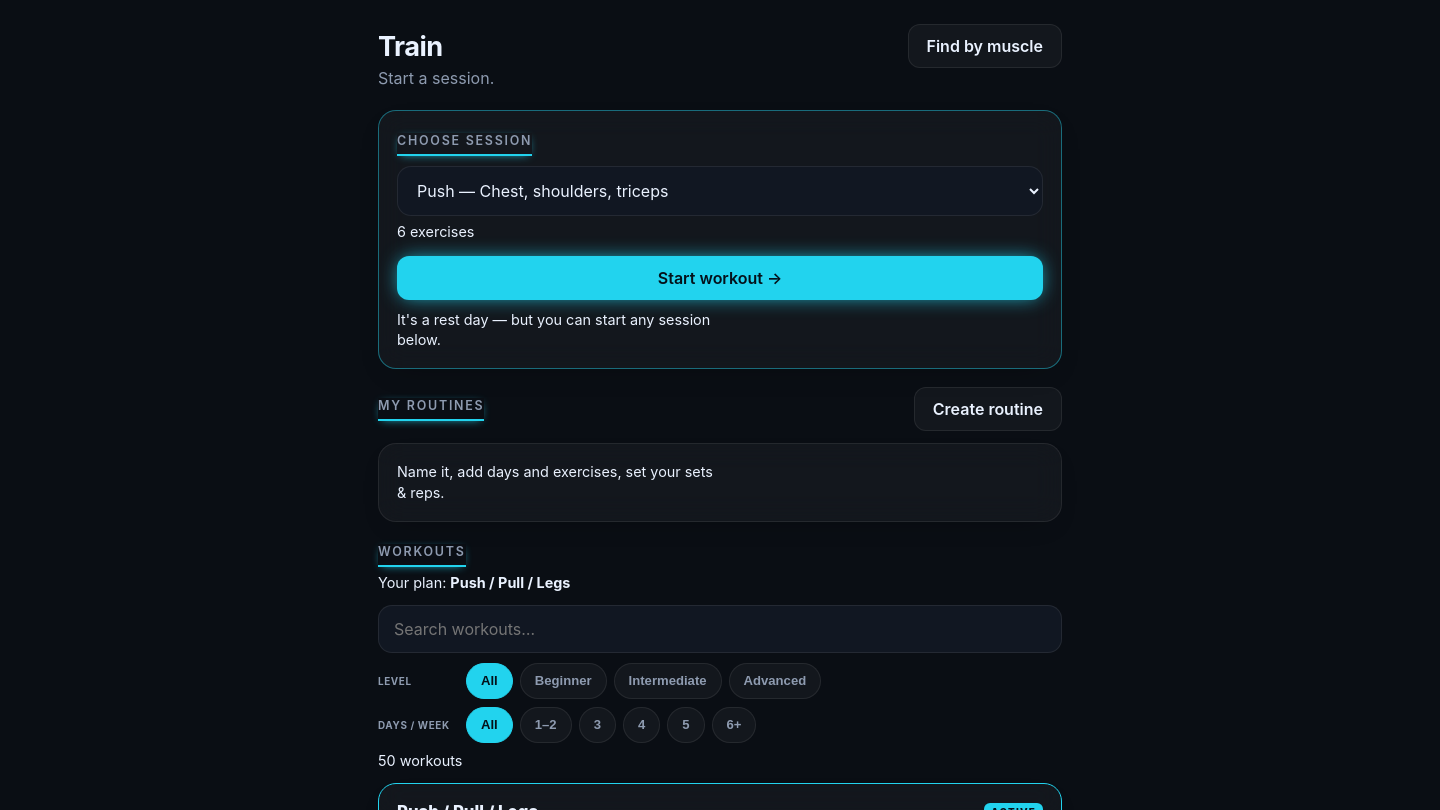
Test case: Train · custom routines › builds, saves and selects a custom routine
Click the button "Create routine" at (988, 410), box [914,388,1062,432]
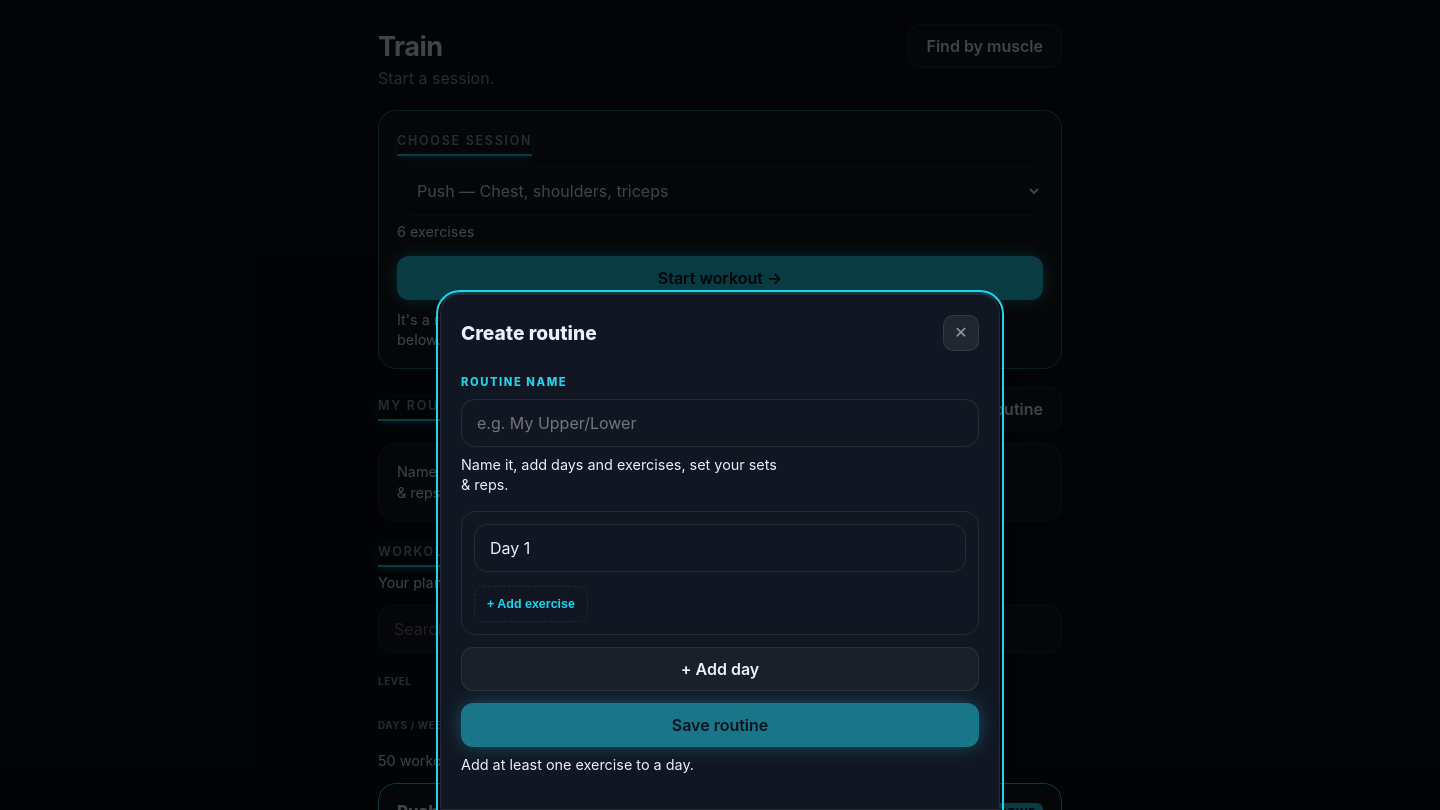
Type "My Upper/Lower" into the field labelled "Routine name" at (720, 422), box [461,398,979,446]
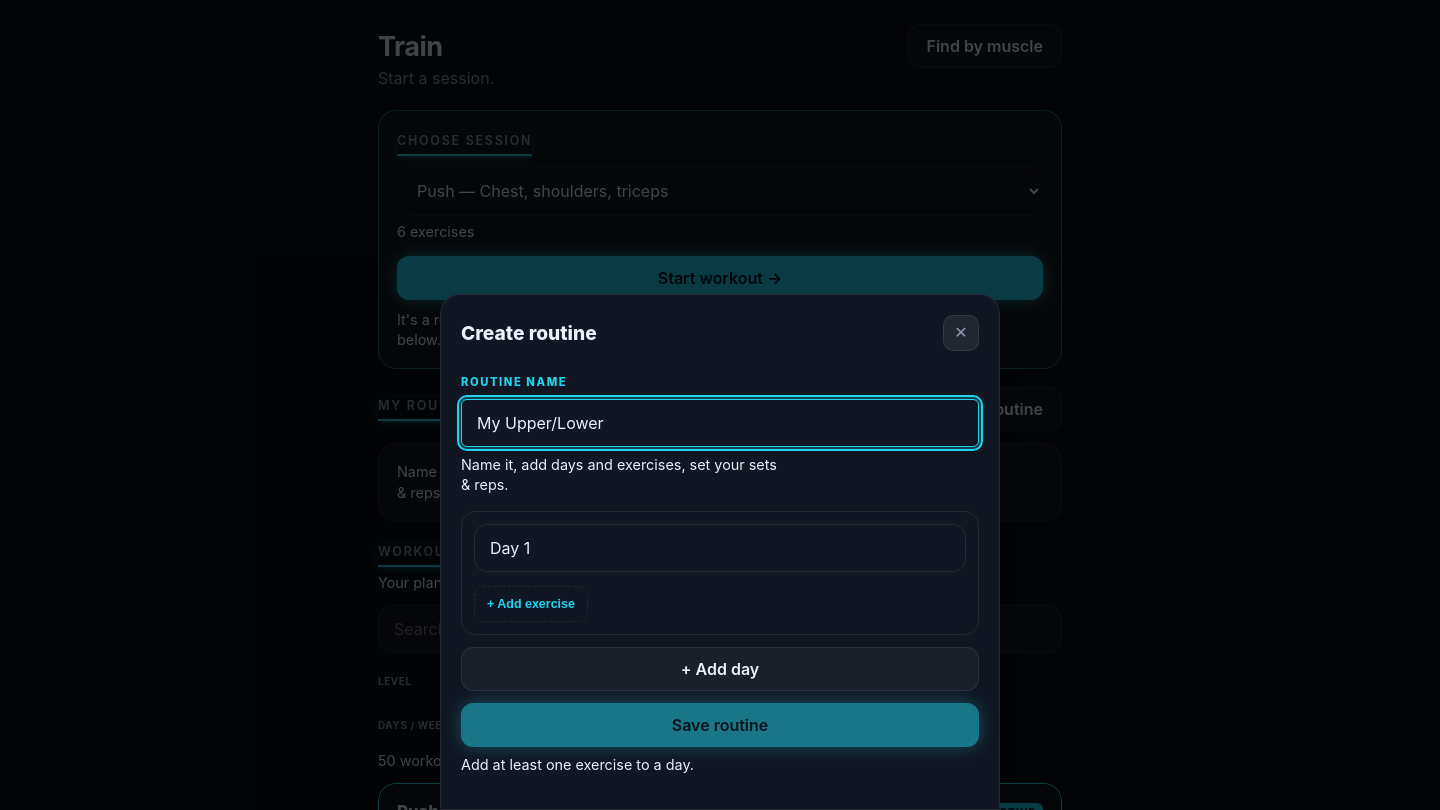
Click the button "+ Add exercise" at (531, 604), box [474,586,588,622]
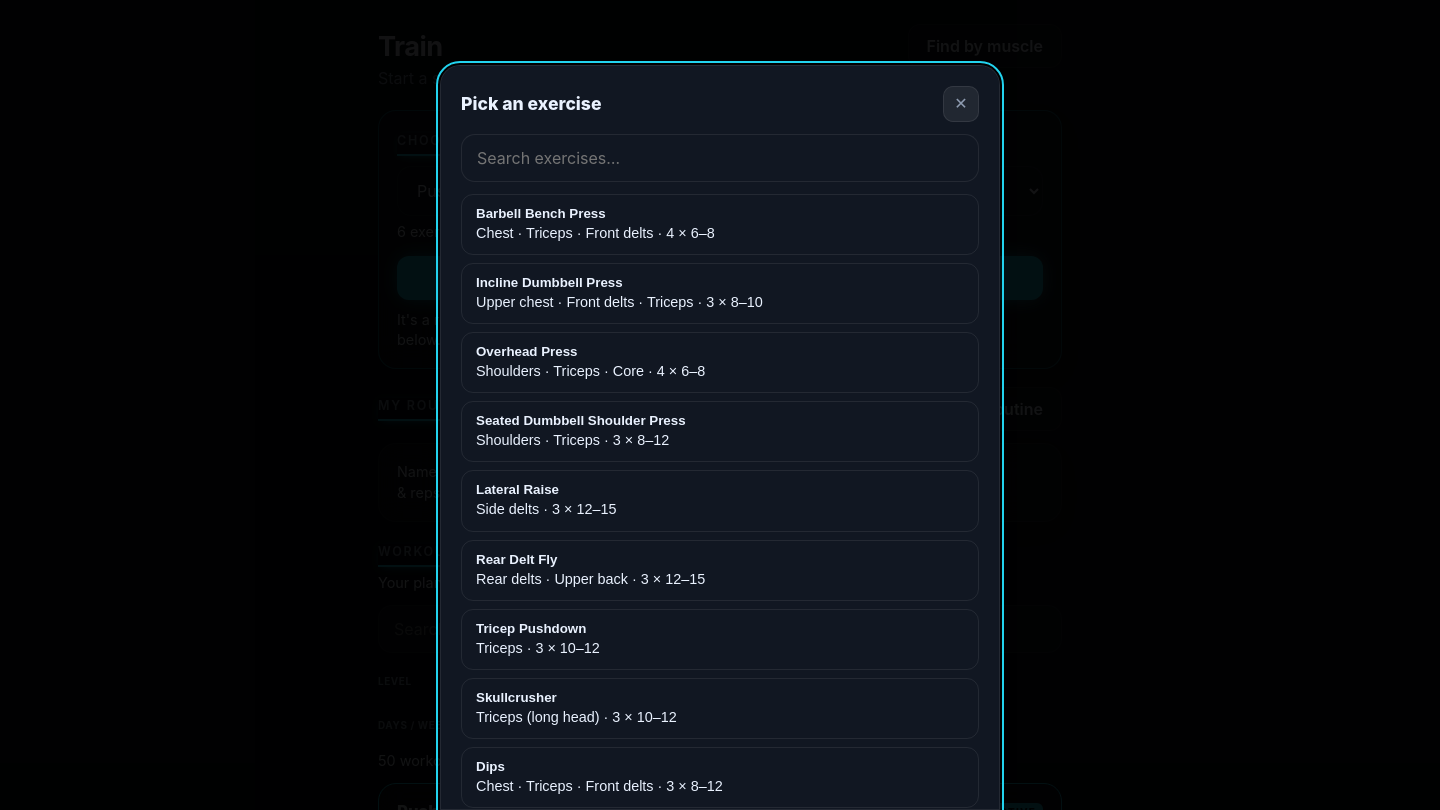
Click the text "Barbell Bench Press" at (541, 213), box [476,206,606,221]
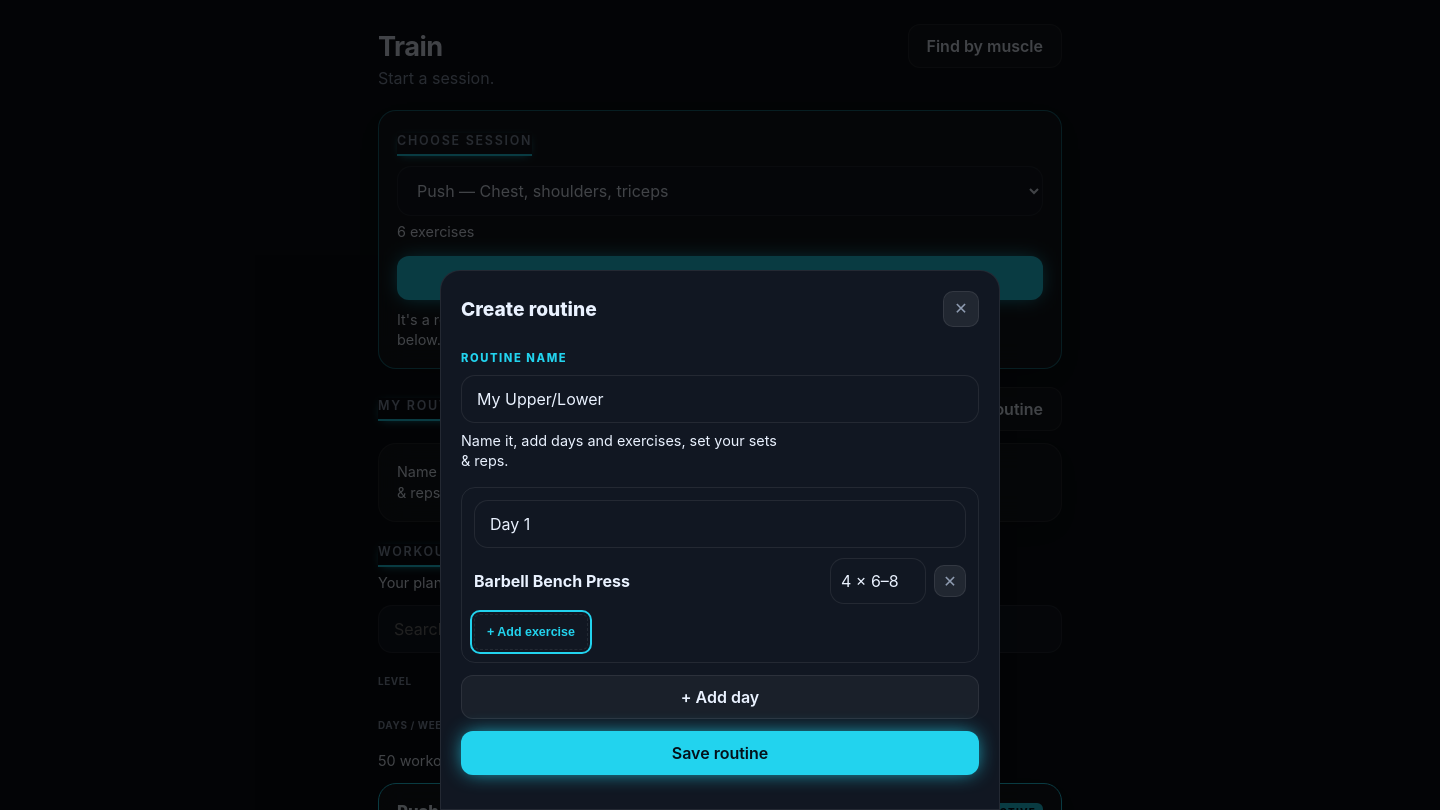
Click the button "Save routine" at (720, 753), box [461,731,979,775]
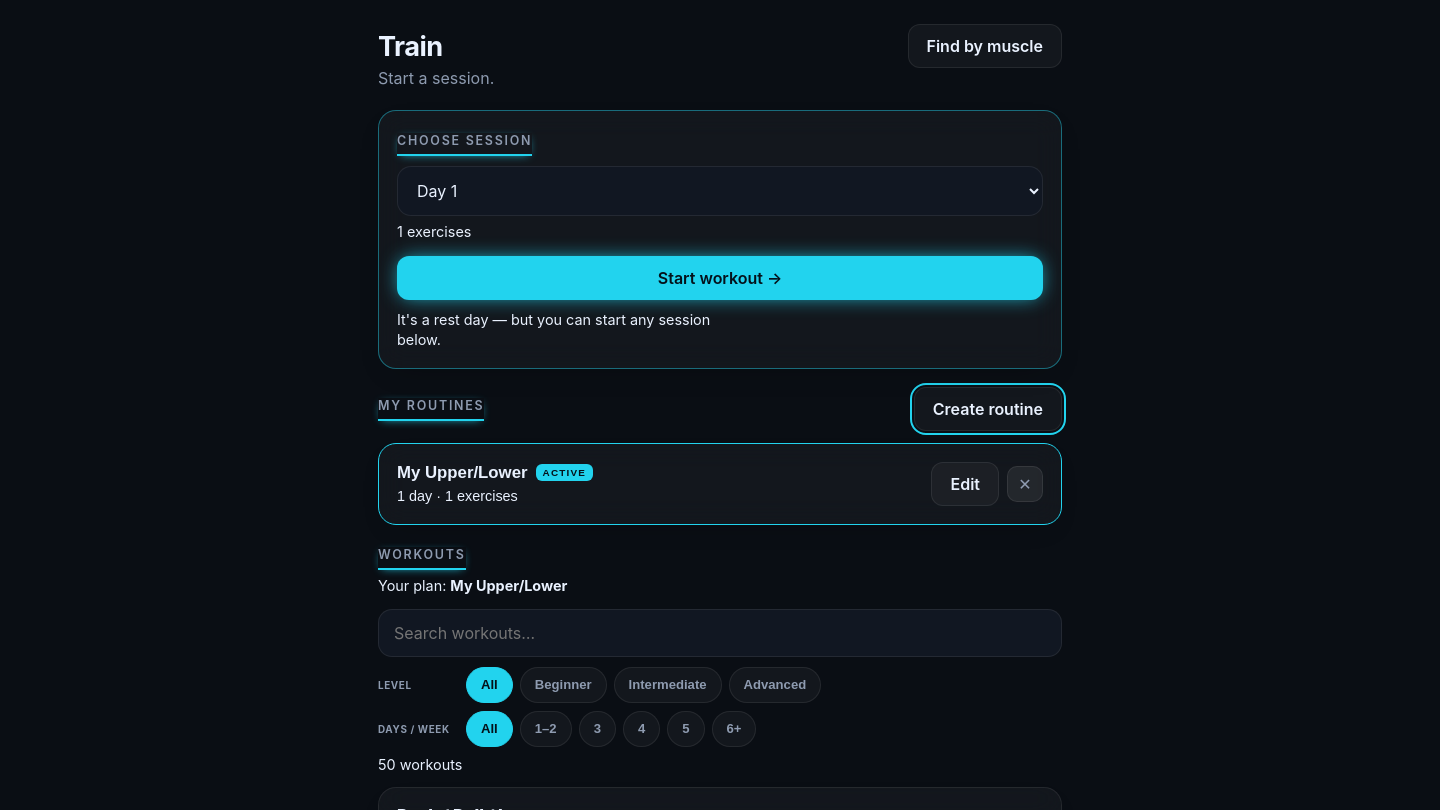
Result: the 1st text "My Upper/Lower" is shown at [397,463,528,483]
